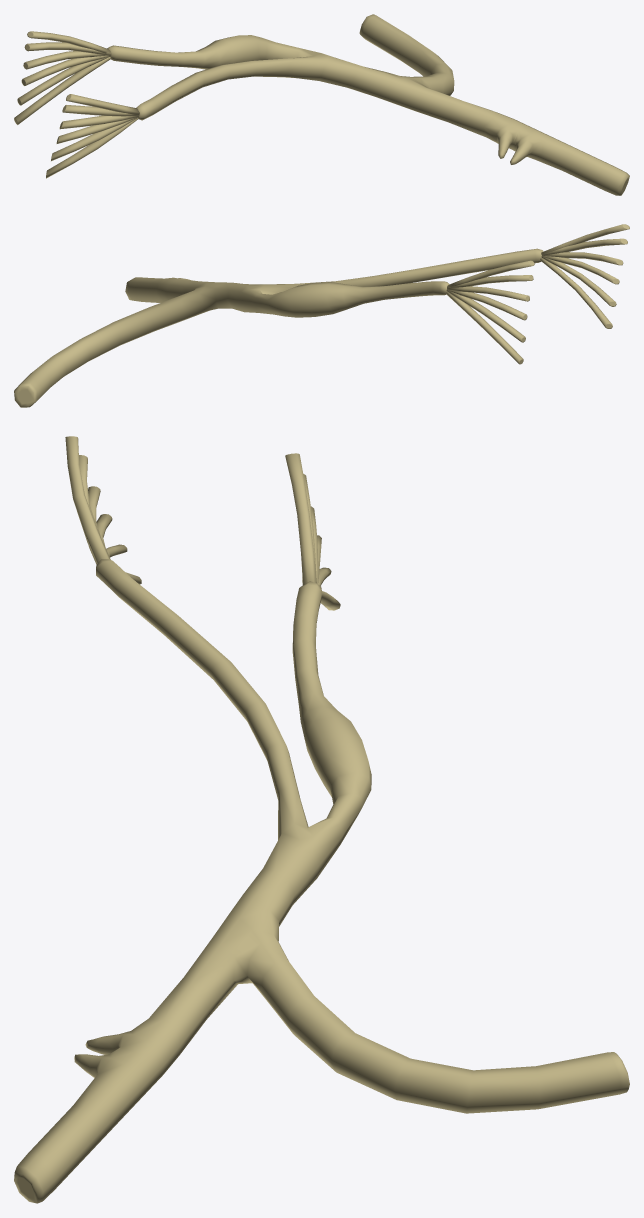
File: Nerves_R10.FBX
3 views of the same model, one above another, from view 1: azimuth 30°, elevation 25°; view 2: azimuth 150°, elevation 25°; view 3: azimuth 270°, elevation 25° (orthographic). The views are drawn at different scales.
Visible parts, largest first — view 1: Nerves_R10; view 2: Nerves_R10; view 3: Nerves_R10.
Boxes of the visible parts, x1,y1,x2,y2 form: Nerves_R10: (14,14,629,195); Nerves_R10: (14,224,629,407); Nerves_R10: (14,436,629,1203).
Bounding box in the file's own units: 0.0337 × 0.0132 × 0.0205.
